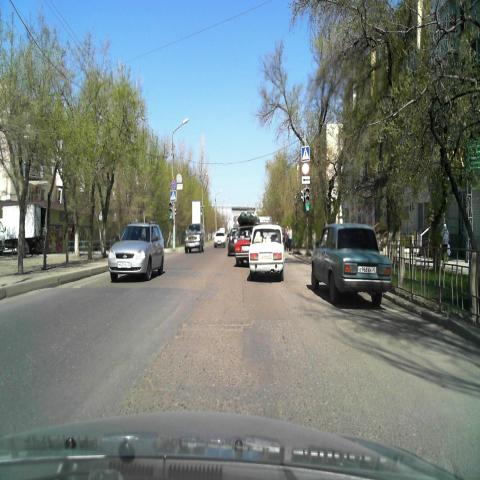3_2: (302, 162, 310, 176)
